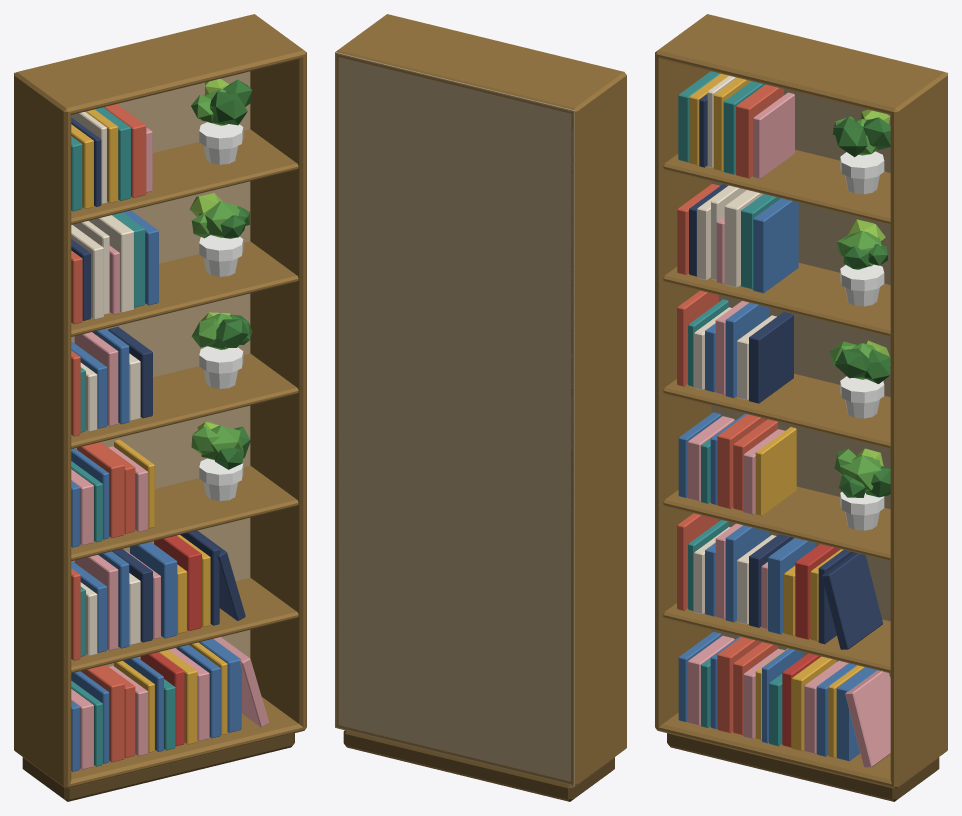
File: bookshelf.glb
The picture shows the model from 3 angles, left to right: view 1: azimuth 30°, elevation 25°; view 2: azimuth 150°, elevation 25°; view 3: azimuth 330°, elevation 25°; orthographic projection.
Parts seen in each view (by area): view 1: bookshelf_Body; view 2: bookshelf_Body; view 3: bookshelf_Body.
Boxes of the visible parts, x1=… form: bookshelf_Body: x1=14, y1=14, x2=306, y2=801; bookshelf_Body: x1=335, y1=14, x2=626, y2=801; bookshelf_Body: x1=655, y1=14, x2=947, y2=801.
Size of the model in its own units: 0.8 by 2.2 by 0.3.
